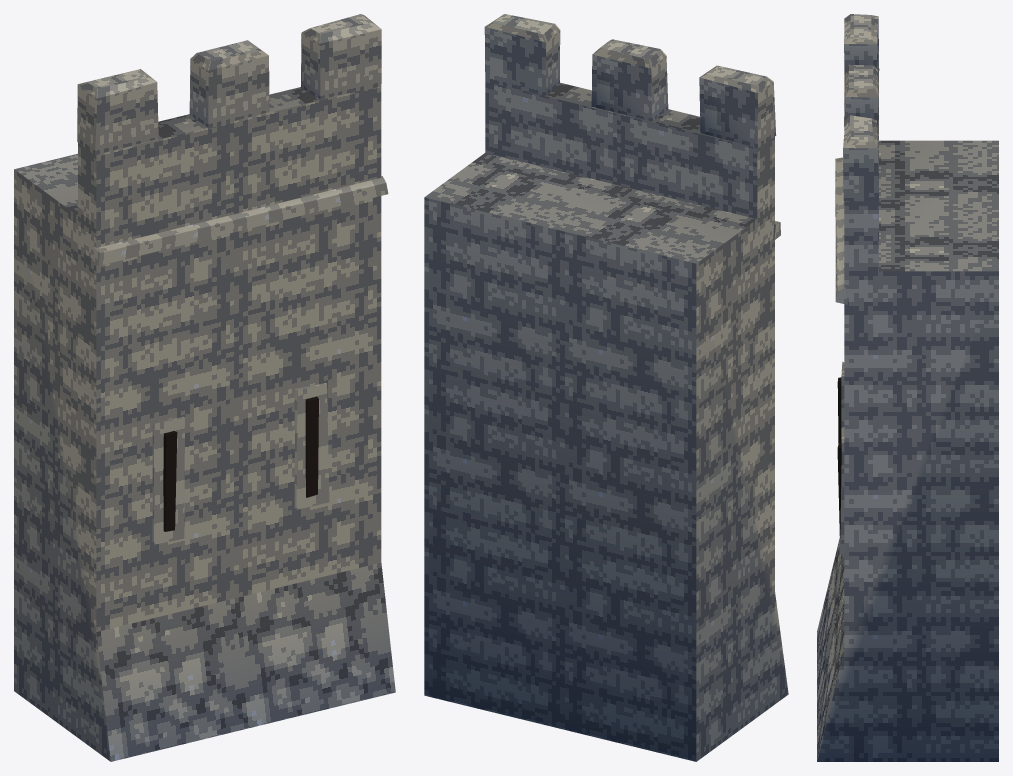
File: cst.curtain__slits.glb
3 renders of one model, left to right at view 1: azimuth 30°, elevation 25°; view 2: azimuth 150°, elevation 25°; view 3: azimuth 270°, elevation 25°, orthographic. The views are drawn at different scales.
Visible parts, largest first — view 1: kit_wall, kit_top, kit_detail; view 2: kit_wall, kit_top; view 3: kit_wall, kit_top, kit_detail.
Part boxes in pixels (bbox=[...]): kit_wall: bbox=[14, 86, 395, 761]; kit_top: bbox=[77, 14, 381, 155]; kit_detail: bbox=[93, 176, 388, 544]; kit_wall: bbox=[424, 82, 788, 761]; kit_top: bbox=[484, 14, 776, 148]; kit_wall: bbox=[817, 75, 998, 761]; kit_top: bbox=[843, 14, 879, 201]; kit_detail: bbox=[835, 157, 847, 554].
Size of the model in its own units: 4.07 by 8.85 by 2.35.
Materials: 5 (5 with a texture image).
